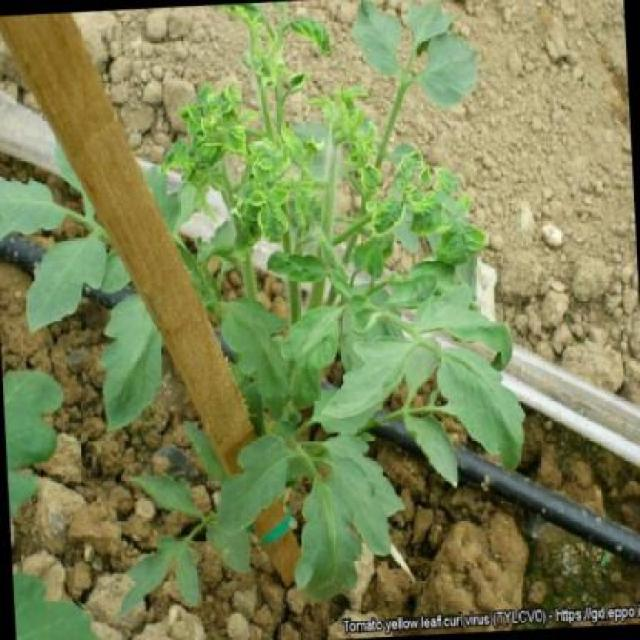Healthy Leaf: (286, 457, 365, 617), (436, 340, 524, 483), (326, 314, 437, 414), (212, 284, 296, 410), (92, 289, 163, 426), (20, 226, 103, 334), (211, 431, 294, 538), (323, 451, 400, 557), (0, 158, 75, 250), (414, 29, 481, 112), (402, 406, 460, 486), (128, 464, 205, 522), (383, 269, 440, 314)
